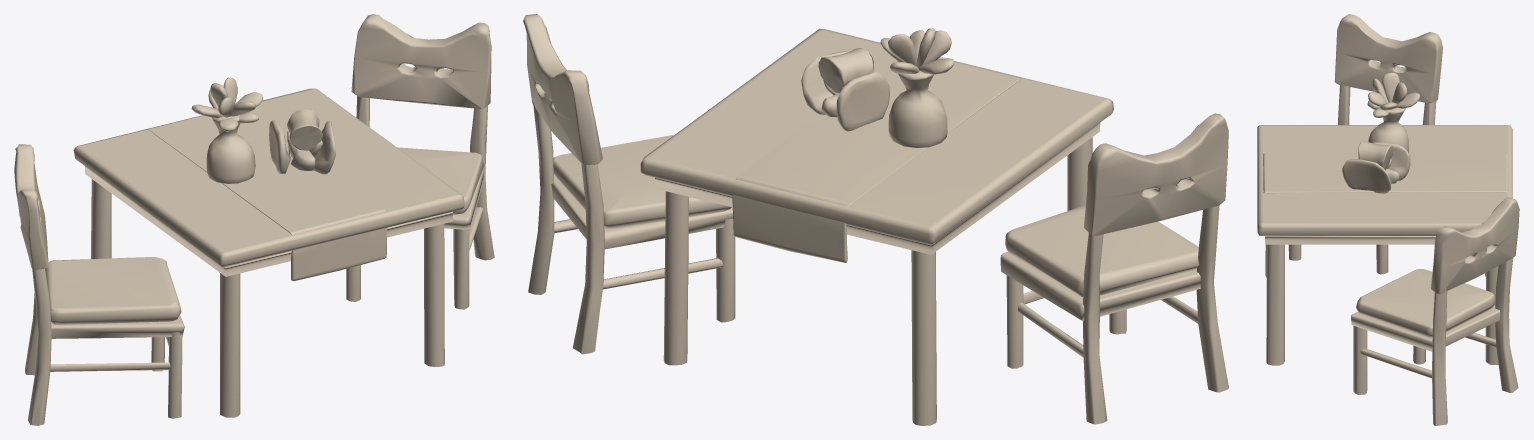
Rendered from kitchen-3-geometry.glb.
The picture shows the model from 3 angles, left to right: view 1: azimuth 30°, elevation 25°; view 2: azimuth 150°, elevation 25°; view 3: azimuth 270°, elevation 25°; orthographic projection. The views are drawn at different scales.
Bounding box in the file's own units: 1 × 0.4902 × 0.5117.
